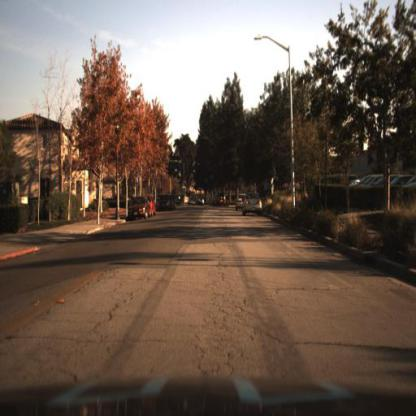car: (128, 195, 154, 219), (243, 194, 268, 217), (156, 194, 174, 217), (145, 194, 157, 222), (364, 176, 376, 192), (356, 178, 368, 192)
